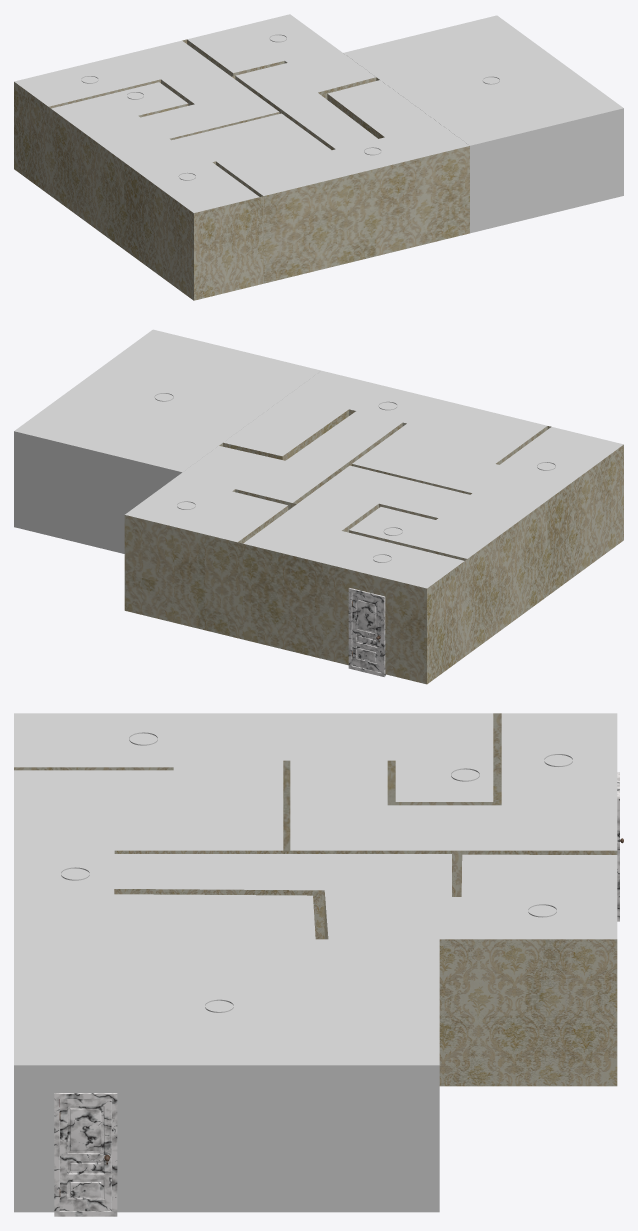
The model's file is 1-2 rooms.fbx.
The picture shows the model from 3 angles, top to bottom: view 1: azimuth 30°, elevation 25°; view 2: azimuth 150°, elevation 25°; view 3: azimuth 270°, elevation 25°; orthographic projection. The views are drawn at different scales.
Parts seen in each view (by area): view 1: Plane.016, Plane.015; view 2: Plane.016, Plane.015, doorBoard.004, BaseB.004; view 3: Plane.016, Plane.015, doorBoard.003, BaseB.003.
Boxes of the visible parts, x1,y1,x2,y2 form: Plane.016: [14, 14, 469, 300]; Plane.015: [343, 15, 623, 233]; Plane.016: [124, 370, 623, 684]; Plane.015: [14, 329, 320, 553]; doorBoard.004: [352, 592, 381, 672]; BaseB.004: [348, 588, 385, 676]; Plane.016: [14, 713, 617, 1086]; Plane.015: [14, 939, 439, 1212]; doorBoard.003: [59, 1099, 111, 1210]; BaseB.003: [54, 1093, 117, 1216].
Size of the model in its own units: 1418 by 282 by 1031.
